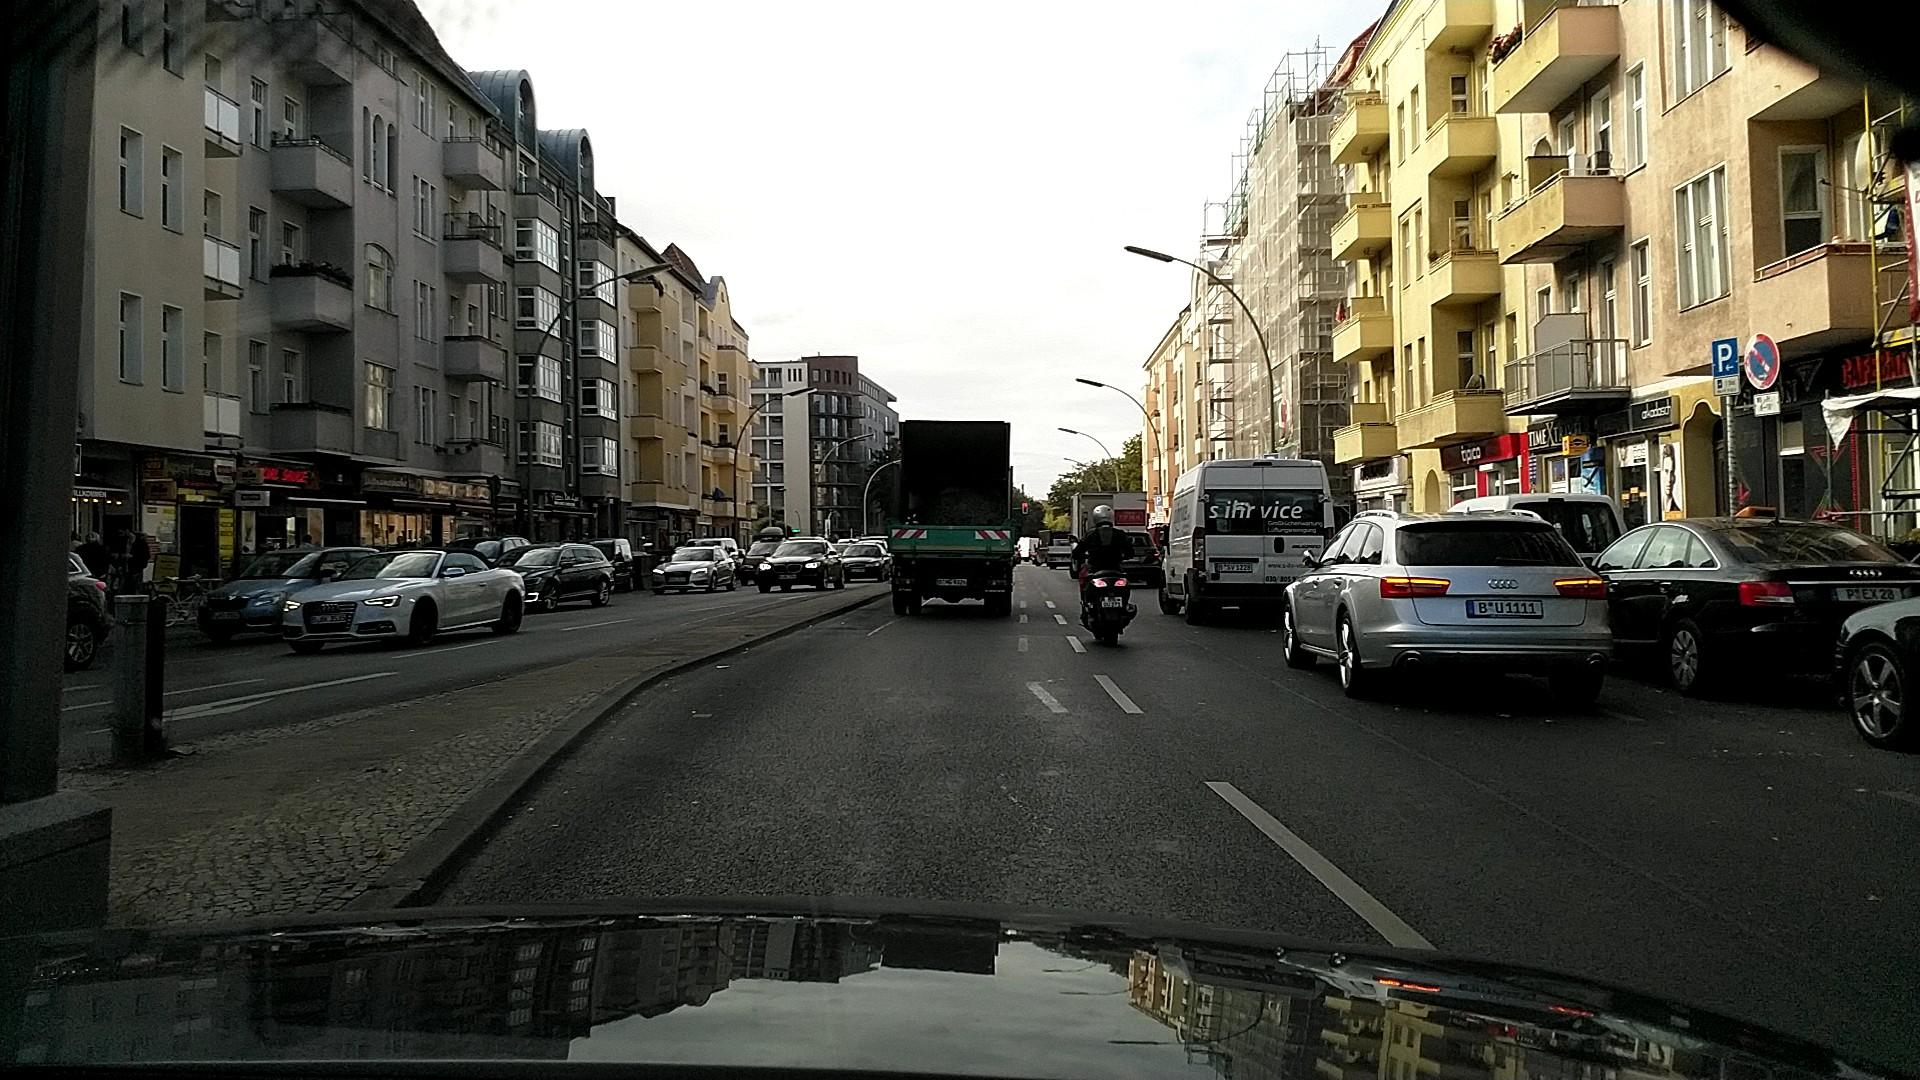Vehicle registration plate: (1466, 600, 1542, 617), (1829, 587, 1901, 602), (1215, 562, 1253, 574), (209, 611, 241, 620), (1098, 596, 1124, 608), (309, 614, 345, 623), (934, 578, 968, 586), (666, 576, 687, 583), (776, 574, 797, 579)
